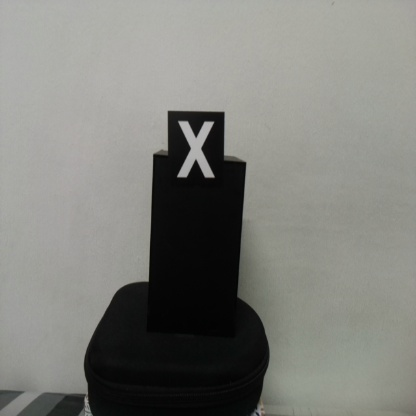id_13: (167, 110, 225, 192)
